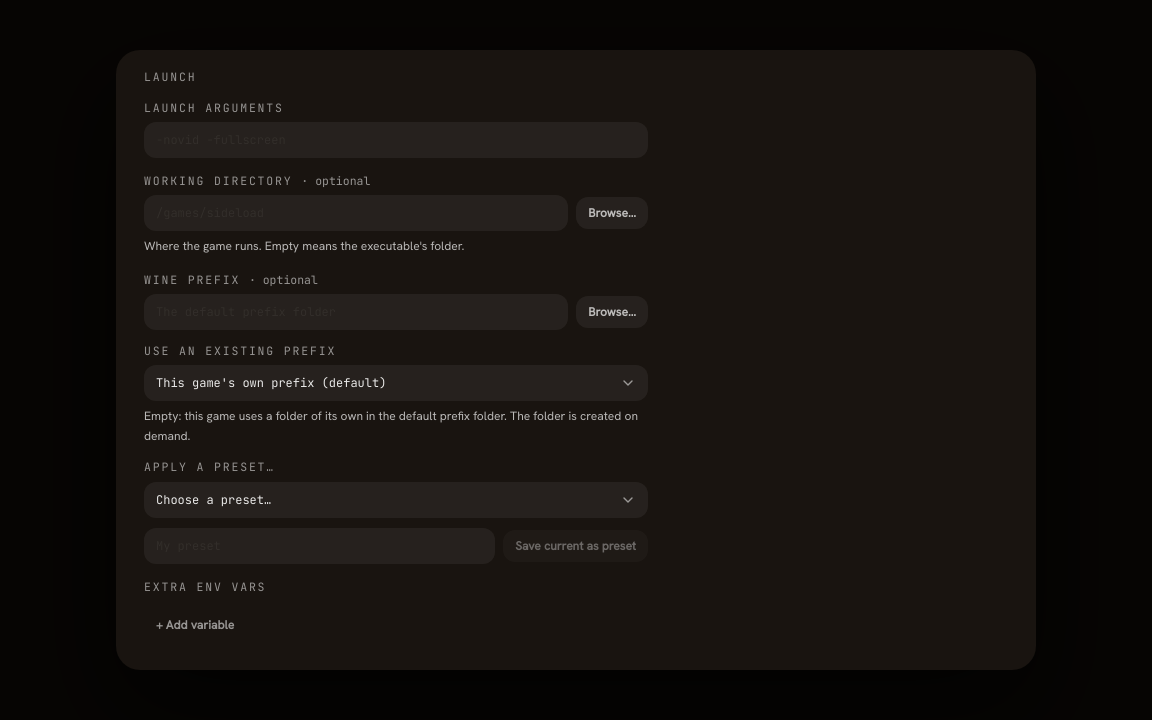
Scenario: The preset picker › lists the built-ins and the user presets in their own groups
(page scrolled)
Press the mouse on the dropdown named "Apply a preset…" at (214, 500), box x1=144 y1=482 x2=648 y2=518
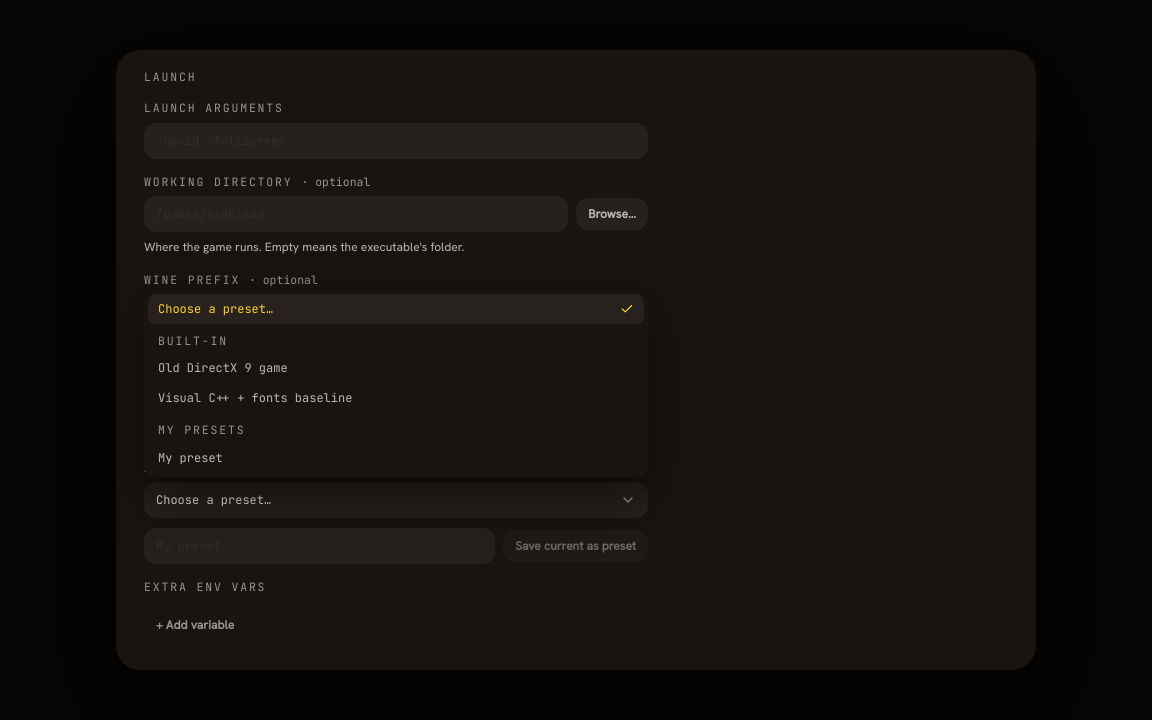
Expected: the text "built-in" is shown, x1=158 y1=333 x2=228 y2=348
Expected: the text "my presets" is shown, x1=158 y1=422 x2=245 y2=437
Expected: the option "Old DirectX 9 game" is shown, x1=158 y1=360 x2=288 y2=376
